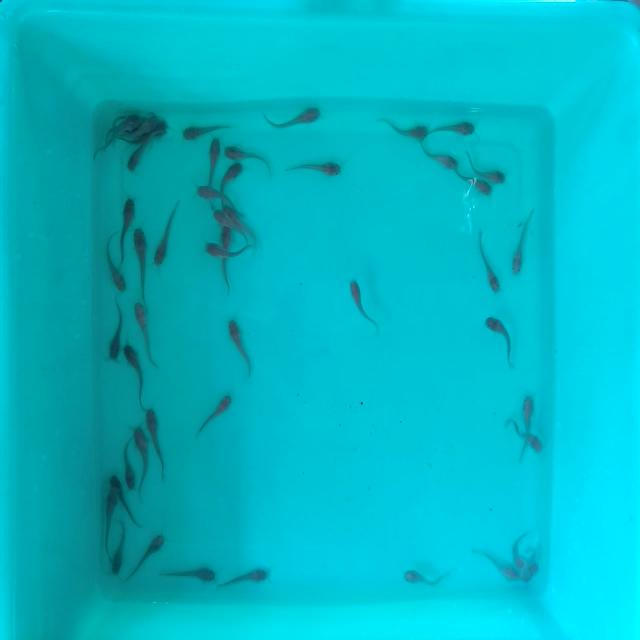lele: (122, 531, 168, 584), (194, 394, 236, 444), (479, 312, 517, 366), (151, 200, 183, 264), (348, 276, 382, 335), (121, 340, 150, 404), (223, 321, 253, 378), (102, 232, 130, 292), (476, 230, 504, 290), (474, 549, 516, 585), (214, 566, 270, 592), (266, 106, 323, 131), (147, 404, 165, 482), (512, 217, 534, 275), (180, 122, 234, 144), (214, 159, 244, 197), (115, 194, 134, 254), (105, 304, 124, 364), (108, 518, 128, 574), (375, 117, 423, 140), (157, 566, 215, 584), (422, 119, 474, 138), (284, 159, 342, 176), (134, 226, 148, 294), (470, 158, 504, 184), (501, 430, 541, 452), (226, 142, 265, 164), (101, 491, 116, 547), (135, 426, 147, 496), (202, 245, 248, 262), (404, 569, 450, 586), (420, 152, 458, 172), (220, 231, 232, 291), (122, 437, 134, 493), (109, 473, 128, 508), (131, 300, 147, 339), (96, 126, 116, 156), (457, 178, 490, 196), (128, 143, 148, 171), (232, 212, 255, 236), (512, 528, 526, 566), (208, 138, 220, 178), (195, 184, 219, 202), (524, 396, 535, 430), (144, 115, 159, 134), (122, 118, 138, 134), (212, 210, 226, 226)
